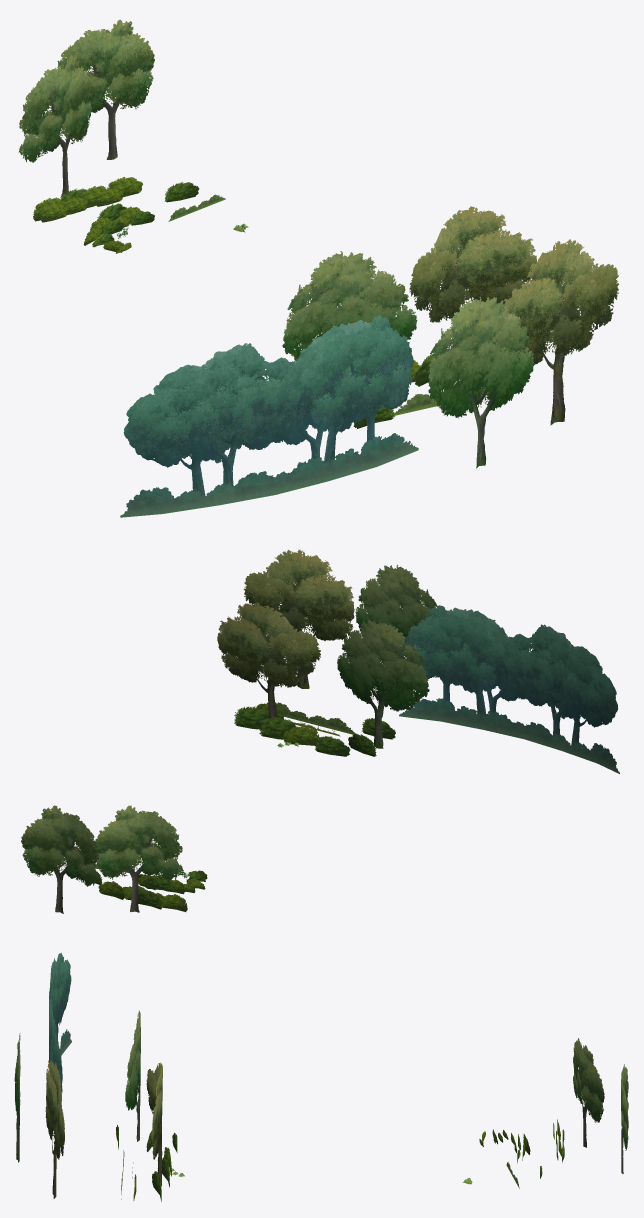
The model's file is SurroundingTrees_2.fbx.
3 views of the same model, one above another, from view 1: azimuth 30°, elevation 25°; view 2: azimuth 150°, elevation 25°; view 3: azimuth 270°, elevation 25° (orthographic). The views are drawn at different scales.
Visible parts, largest first — view 1: polySurface38340; view 2: polySurface38340; view 3: polySurface38340.
Part boxes in pixels (x1=…): polySurface38340: x1=18, y1=19, x2=618, y2=517; polySurface38340: x1=21, y1=549, x2=619, y2=913; polySurface38340: x1=14, y1=952, x2=628, y2=1201.
Size of the model in its own units: 446 by 153 by 609.
